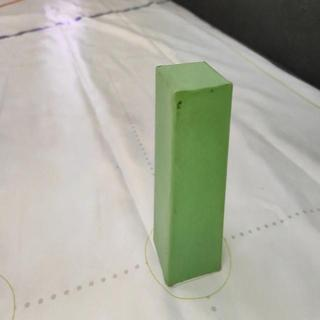greenbox: (152, 61, 233, 288)
